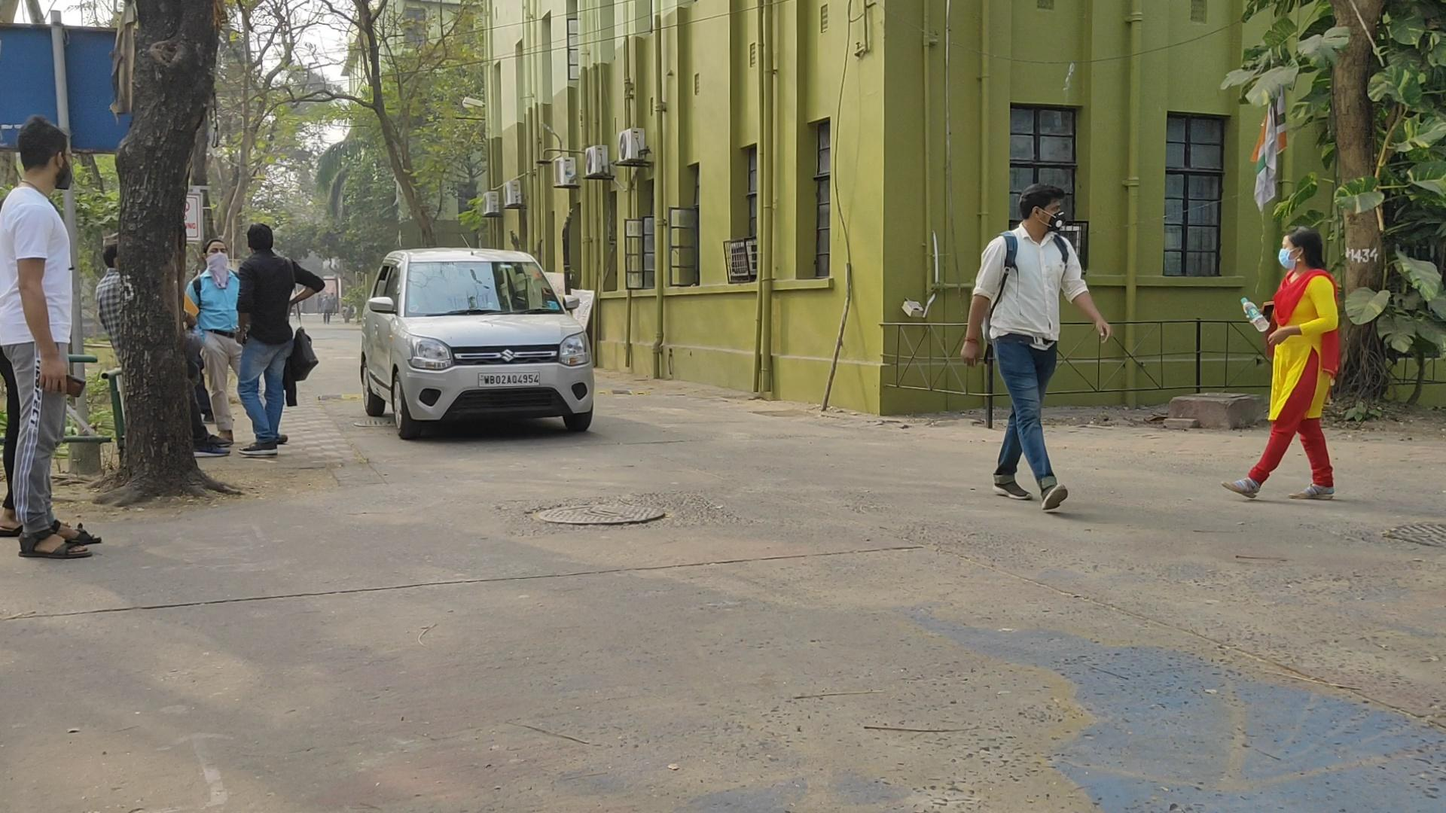car: (357, 246, 598, 445)
